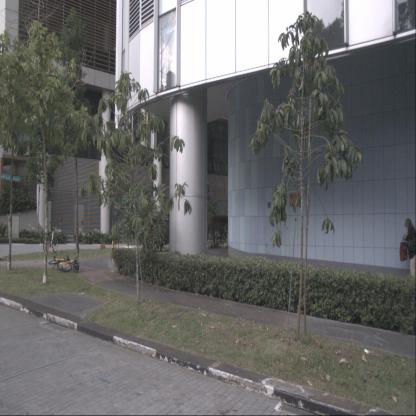human-pedestrian-adult: (399, 218, 416, 297)
movable_object-trafficcone: (99, 243, 105, 249)
vehicle-bicycle: (48, 246, 80, 274), (42, 220, 58, 254)
